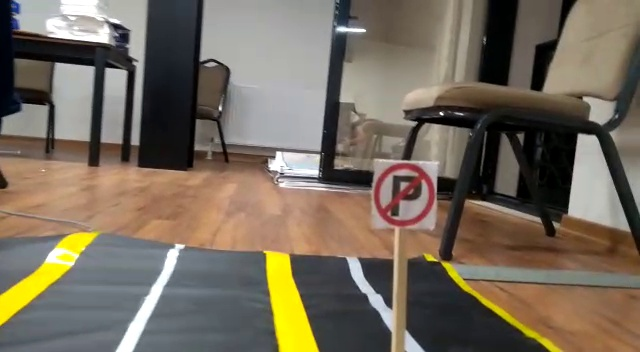park_yapilmaz: (375, 161, 436, 230)
